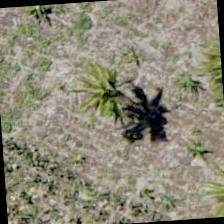Kelapa_Sawit: (66, 43, 162, 139)
